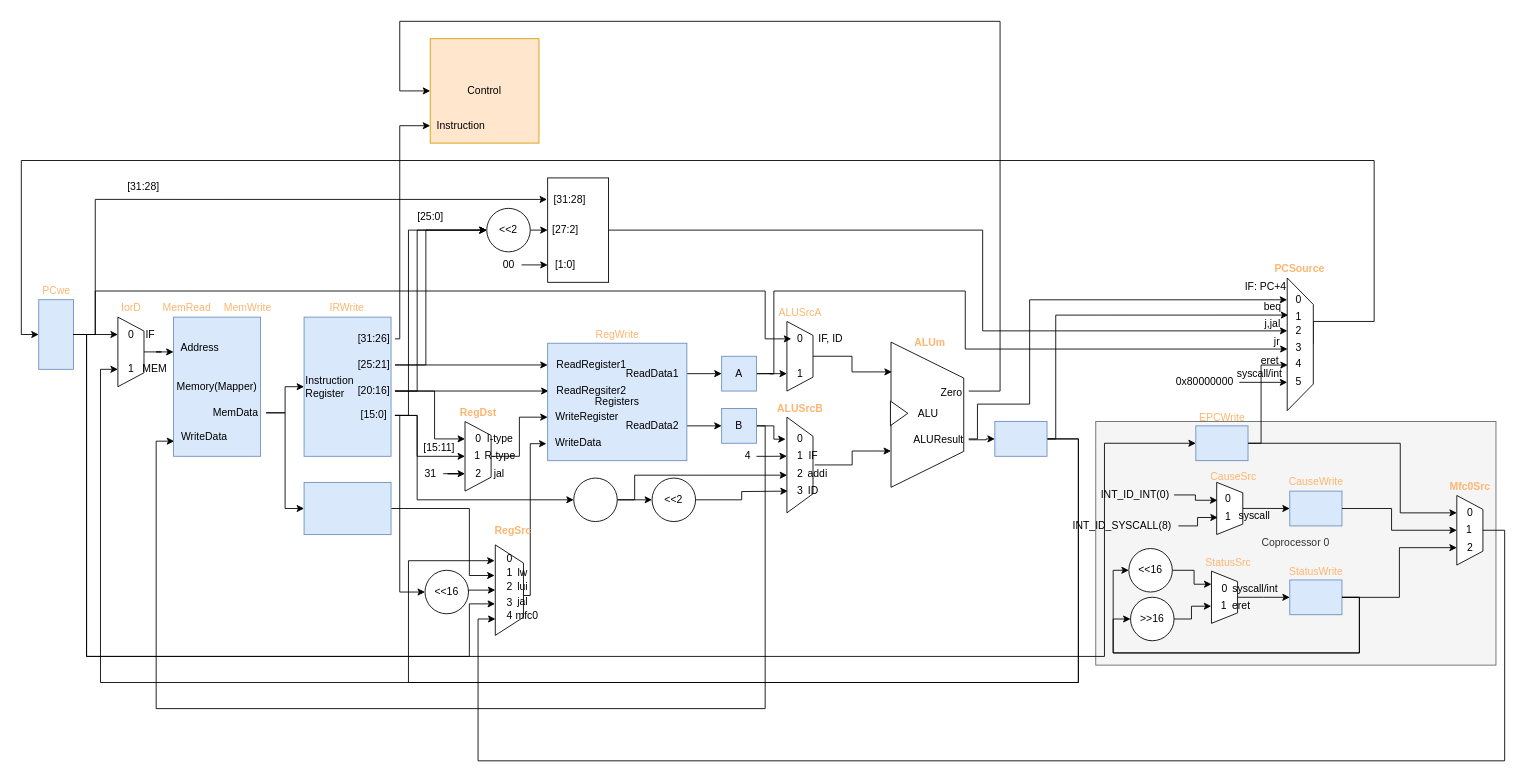
The diagram is 1527 pixels wide and 783 high, and some of its shapes have lost their labels. Each missing label, with the centre of its shape:
ALUOut: point (1020, 438)
cause: point (1315, 508)
EPC: point (1221, 443)
Memory Data Register: point (347, 508)
PC: point (56, 334)
Sign Extent: point (595, 499)
status: point (1315, 597)
